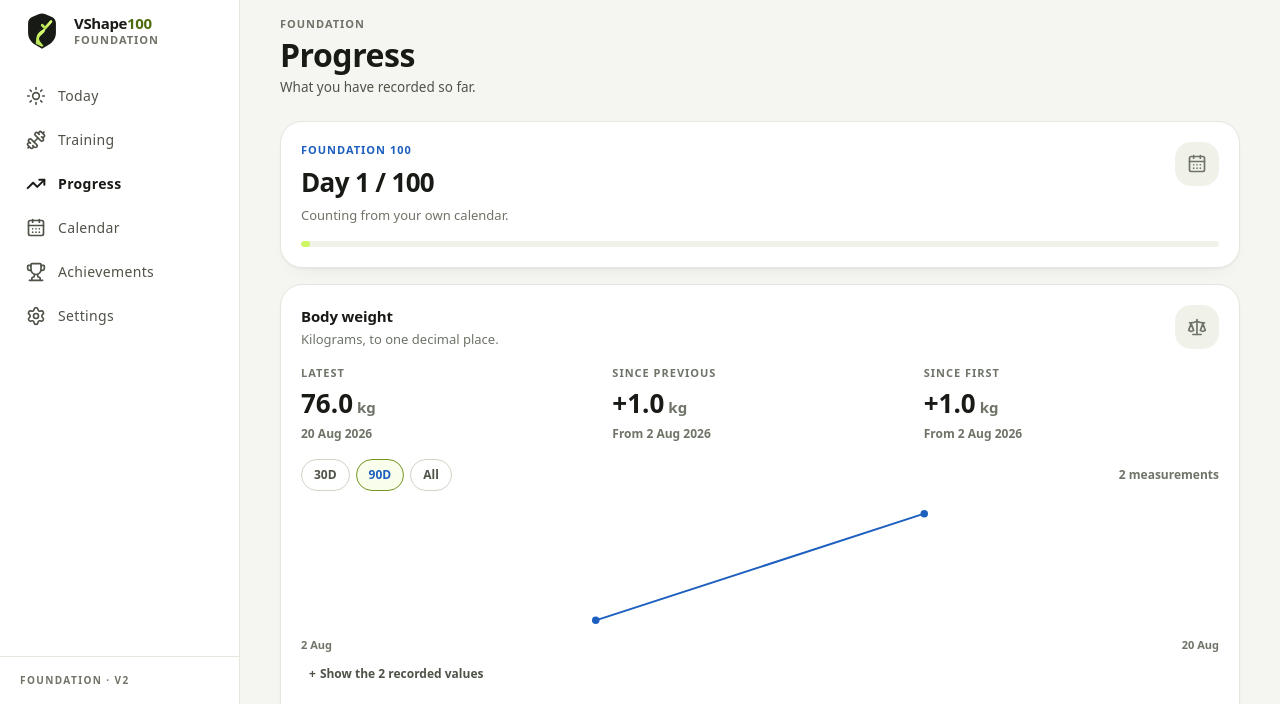
Test: 1. a successful refetch at midnight › keeps the range, the typed draft and the chosen date
Expected: the heading "Progress" is shown, x1=280 y1=32 x2=415 y2=76
Click the button "30D": coordinates (325, 475) x1=301 y1=459 x2=350 y2=491
(page scrolled)
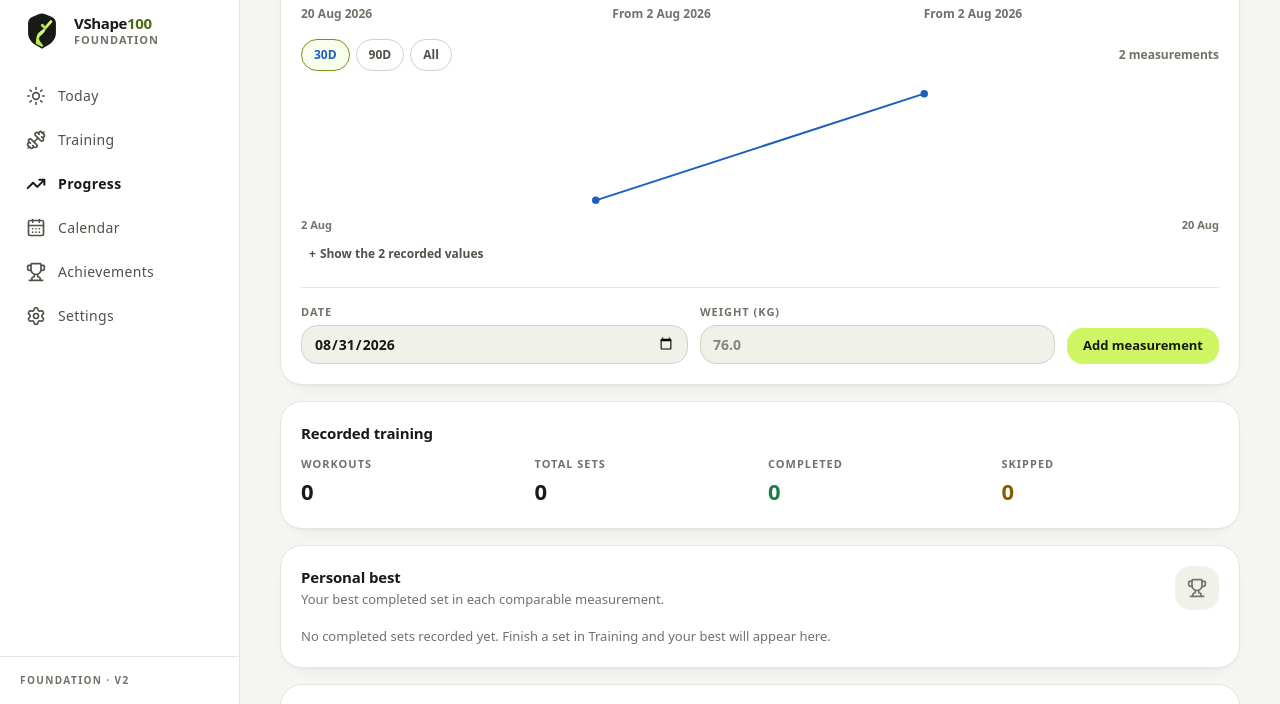
Expected: the text "2 measurements" is shown, x1=1119 y1=46 x2=1219 y2=64
In the date field labelled "Date": coordinates (494, 344) x1=301 y1=325 x2=688 y2=364, type "2026-08-15"
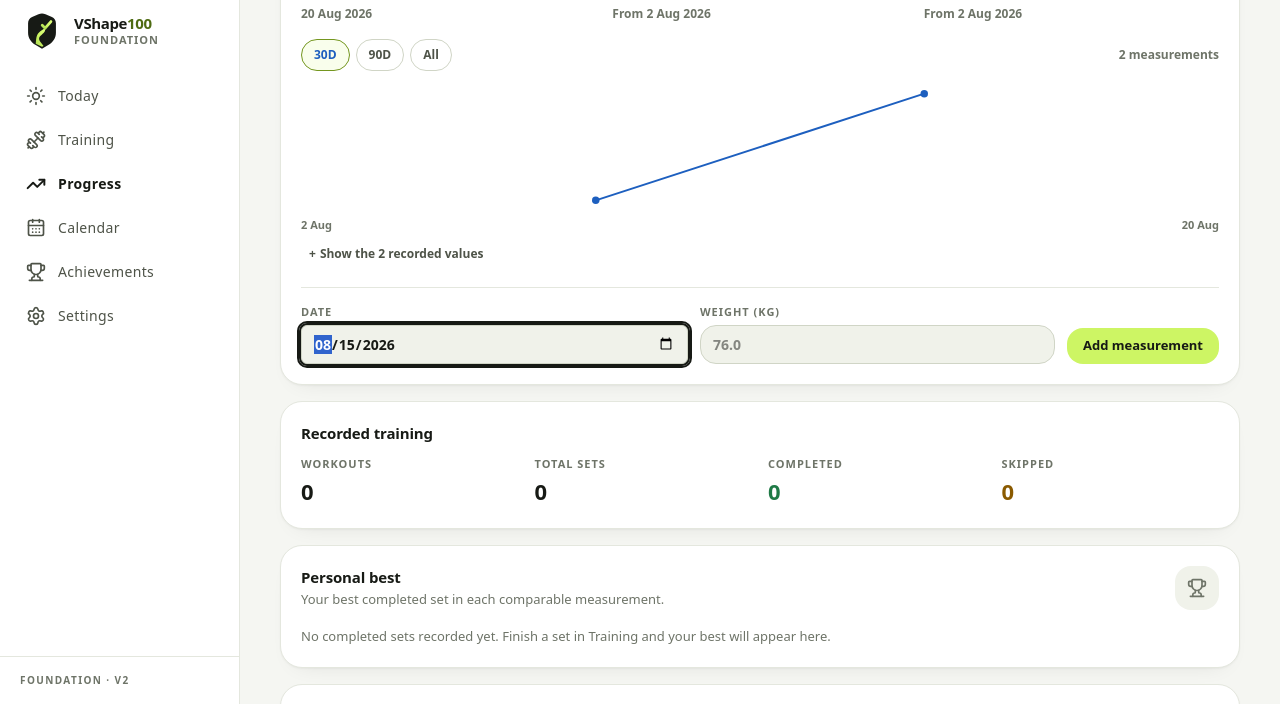
In the number field labelled "Weight (kg)": coordinates (878, 344) x1=700 y1=325 x2=1055 y2=364, type "77.4"
Wait 359700 ms
(page scrolled)
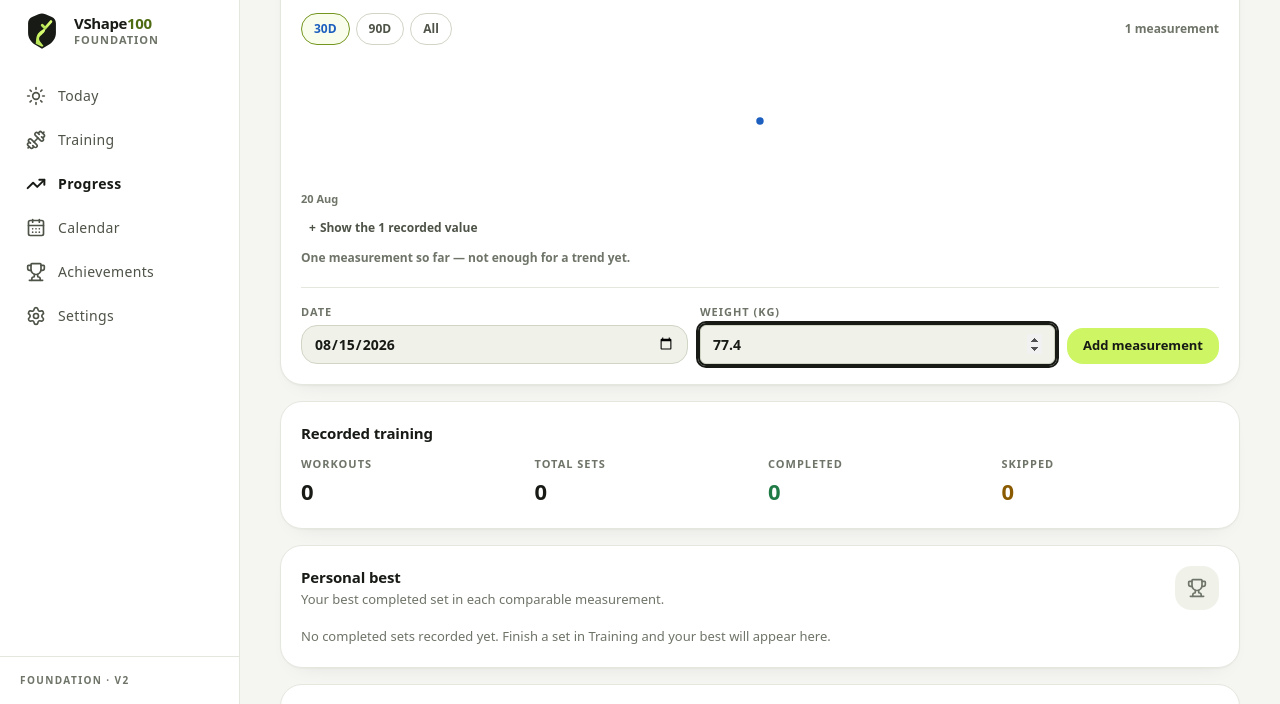
Now the text "1 measurement" is shown, box x1=1125 y1=20 x2=1219 y2=38
